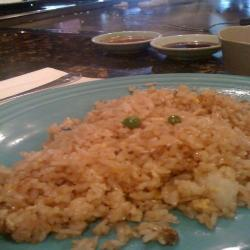rice: (14, 92, 240, 218)
